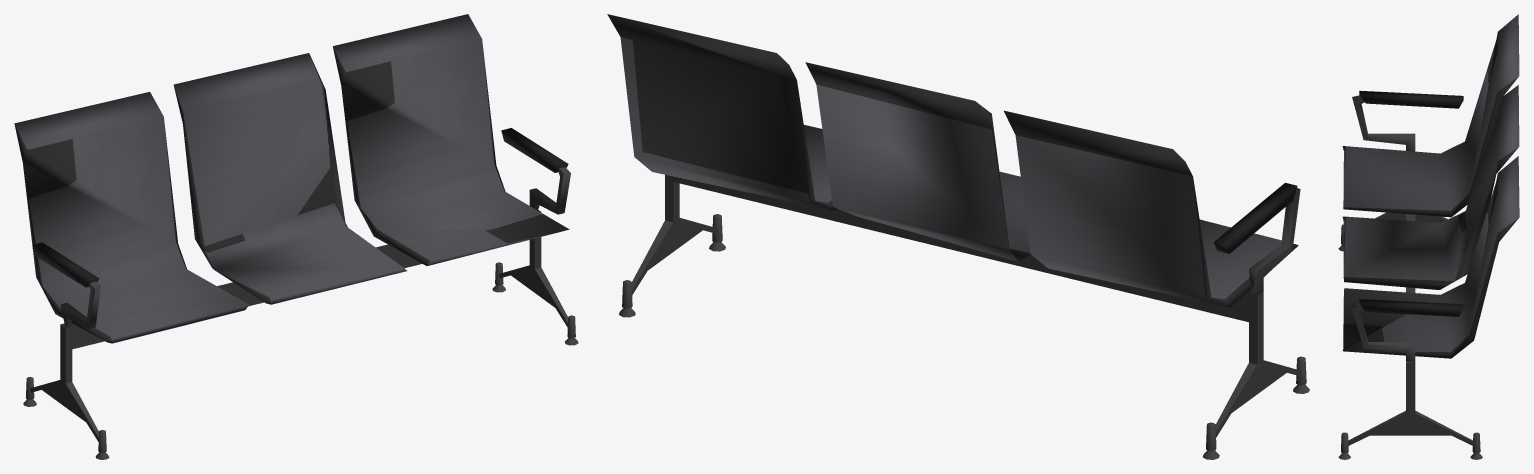
File: bench_hull.fbx
The picture shows the model from 3 angles, left to right: view 1: azimuth 30°, elevation 25°; view 2: azimuth 150°, elevation 25°; view 3: azimuth 270°, elevation 25°; orthographic projection. The views are drawn at different scales.
Visible parts, largest first — view 1: bench seats, bench support, bench arms; view 2: bench seats, bench support, bench arms; view 3: bench seats, bench arms, bench support.
Part boxes in pixels (left/top/right/bottom): bench seats: left=14, top=14, right=569, bottom=343; bench support: left=23, top=210, right=578, bottom=459; bench arms: left=32, top=128, right=570, bottom=328; bench seats: left=607, top=14, right=1298, bottom=307; bench support: left=619, top=175, right=1309, bottom=459; bench arms: left=1214, top=182, right=1300, bottom=294; bench seats: left=1342, top=14, right=1519, bottom=358; bench arms: left=1352, top=90, right=1463, bottom=362; bench support: left=1338, top=212, right=1482, bottom=459.
Bounding box in the file's own units: 201 × 104 × 71.87.
